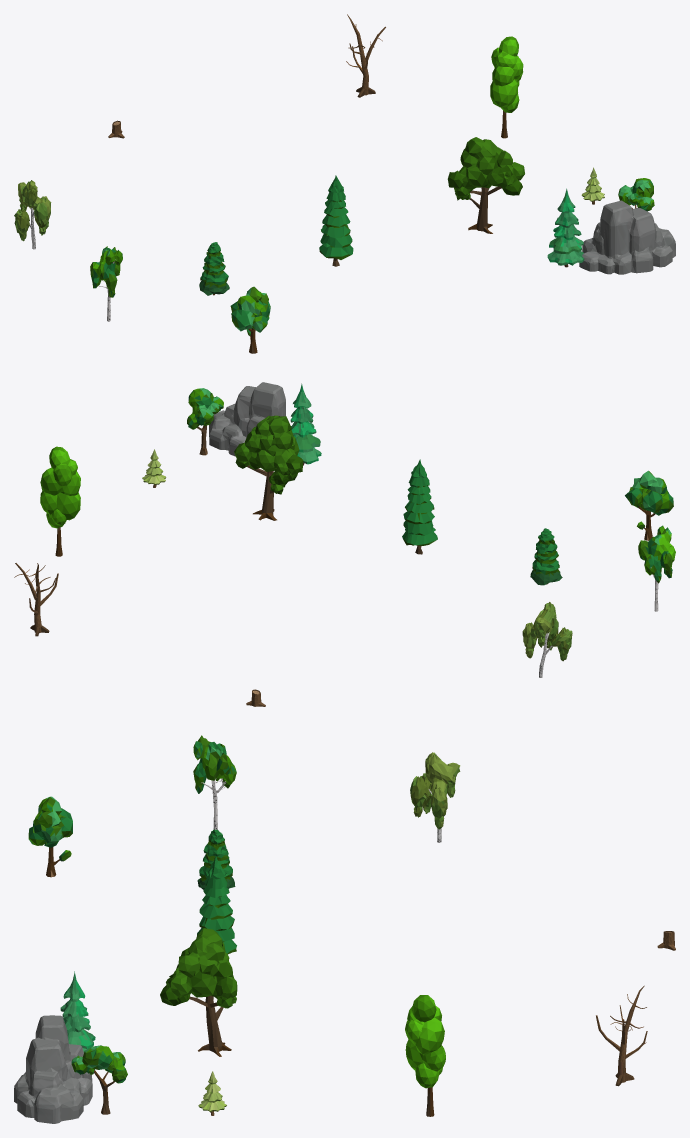
File: TreesAndRocks.fbx
3 views of the same model, one above another, from view 1: azimuth 30°, elevation 25°; view 2: azimuth 150°, elevation 25°; view 3: azimuth 270°, elevation 25° (orthographic). The views are drawn at different scales.
Parts seen in each view (by area): view 1: Rock_1_, _6_tree, _7_tree, _2_tree, _8_tree, _4_tree, _10_tree, _5_tree, _1_tree, _3_tree, _11_tree; view 2: _6_tree, Rock_1_, _7_tree, _2_tree, _10_tree, _4_tree, _5_tree, _8_tree, _3_tree, _1_tree, _11_tree; view 3: Rock_1_, _6_tree, _7_tree, _10_tree, _2_tree, _4_tree, _5_tree, _3_tree, _8_tree, _1_tree, _11_tree, _9_tree.
Boxes of the visible parts, <box> form: Rock_1_: <box>579,200,675,274</box>; _6_tree: <box>447,137,524,233</box>; _7_tree: <box>490,36,523,138</box>; _2_tree: <box>319,175,353,266</box>; _8_tree: <box>547,188,584,267</box>; _4_tree: <box>230,286,270,353</box>; _10_tree: <box>14,180,51,249</box>; _5_tree: <box>90,246,122,321</box>; _1_tree: <box>199,242,229,295</box>; _3_tree: <box>618,178,654,211</box>; _11_tree: <box>346,14,385,97</box>; _6_tree: <box>234,415,303,520</box>; Rock_1_: <box>209,382,285,456</box>; _7_tree: <box>40,446,80,556</box>; _2_tree: <box>402,459,437,554</box>; _10_tree: <box>522,602,572,677</box>; _4_tree: <box>625,470,673,540</box>; _5_tree: <box>638,525,675,611</box>; _8_tree: <box>290,383,321,465</box>; _3_tree: <box>187,388,223,455</box>; _1_tree: <box>530,528,562,585</box>; _11_tree: <box>14,563,58,636</box>; Rock_1_: <box>14,1015,92,1123</box>; _6_tree: <box>160,928,237,1056</box>; _7_tree: <box>405,995,445,1116</box>; _10_tree: <box>410,752,460,842</box>; _2_tree: <box>197,855,236,954</box>; _4_tree: <box>28,796,72,877</box>; _5_tree: <box>193,735,236,829</box>; _3_tree: <box>71,1045,127,1114</box>; _8_tree: <box>60,971,95,1052</box>; _1_tree: <box>197,829,235,889</box>; _11_tree: <box>596,985,647,1086</box>; _9_tree: <box>198,1071,226,1115</box>.
Size of the model in its own units: 1487 by 282 by 1369.
13 materials, 13 textured.
